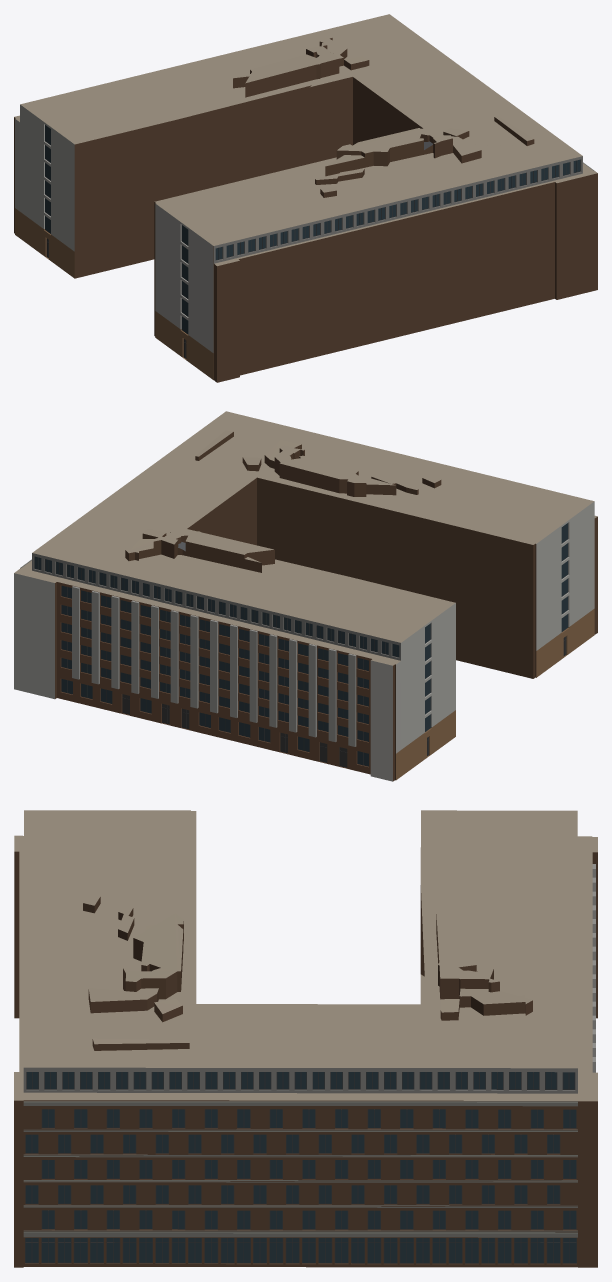
Rendered from recipe-large-poeldijkstraat-14-1018-247952.glb.
3 views of the same model, one above another, from view 1: azimuth 30°, elevation 25°; view 2: azimuth 150°, elevation 25°; view 3: azimuth 270°, elevation 25° (orthographic). The views are drawn at different scales.
Visible parts, largest first — view 1: poeldijkstraat-14-1018-247952; view 2: poeldijkstraat-14-1018-247952; view 3: poeldijkstraat-14-1018-247952.
Boxes of the visible parts, bbox=[...] form: poeldijkstraat-14-1018-247952: bbox=[14, 14, 597, 382]; poeldijkstraat-14-1018-247952: bbox=[14, 411, 597, 781]; poeldijkstraat-14-1018-247952: bbox=[14, 810, 597, 1267].
Size of the model in its own units: 67.26 by 25.07 by 62.35.
